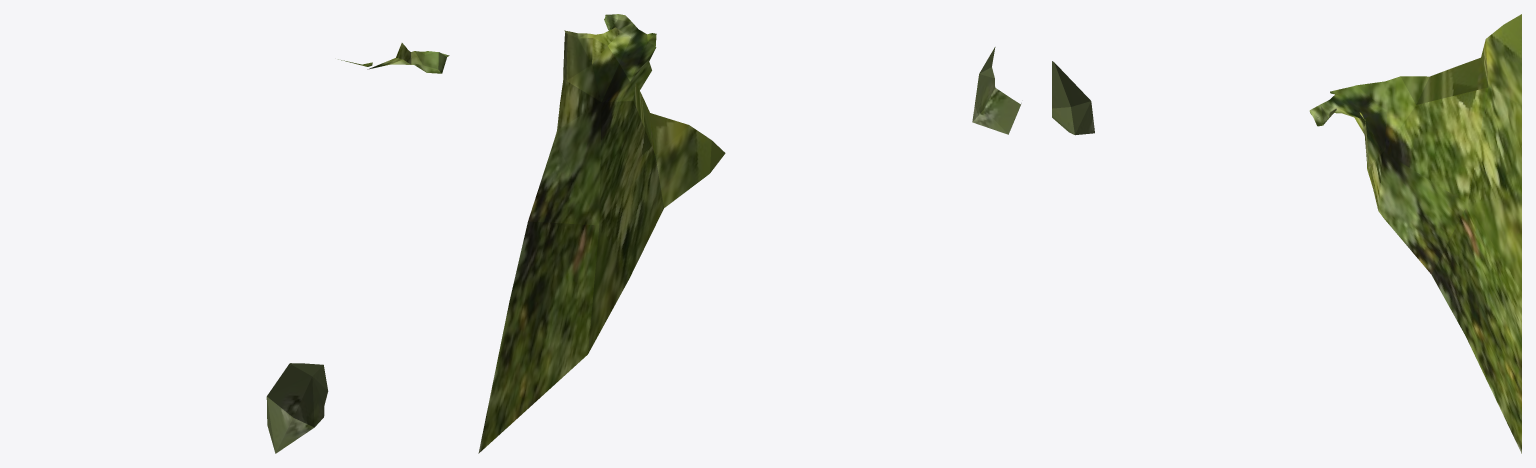
3 views of the same model, side by side, from view 1: azimuth 30°, elevation 25°; view 2: azimuth 150°, elevation 25°; view 3: azimuth 270°, elevation 25° (orthographic). The views are drawn at different scales.
Size of the model in its own units: 1.95 by 2.28 by 2.95.
Materials: 1 (1 with a texture image).
